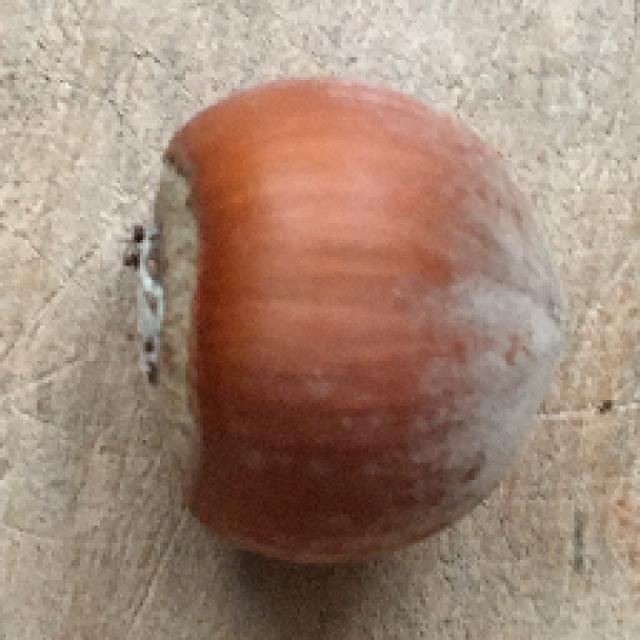qualityHazelnut: (136, 80, 568, 570)
